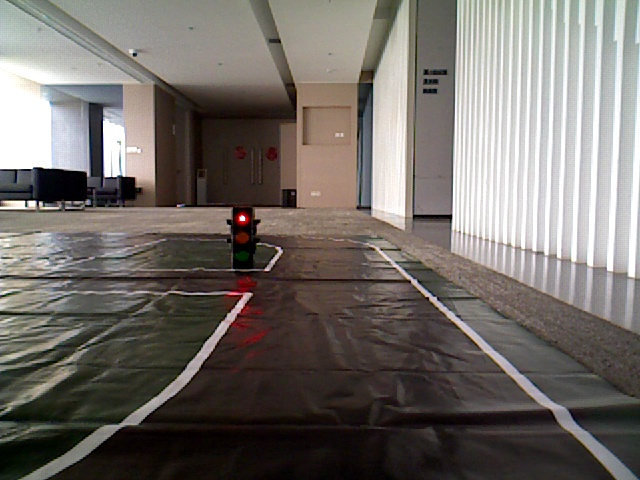red: (233, 212, 251, 260)
